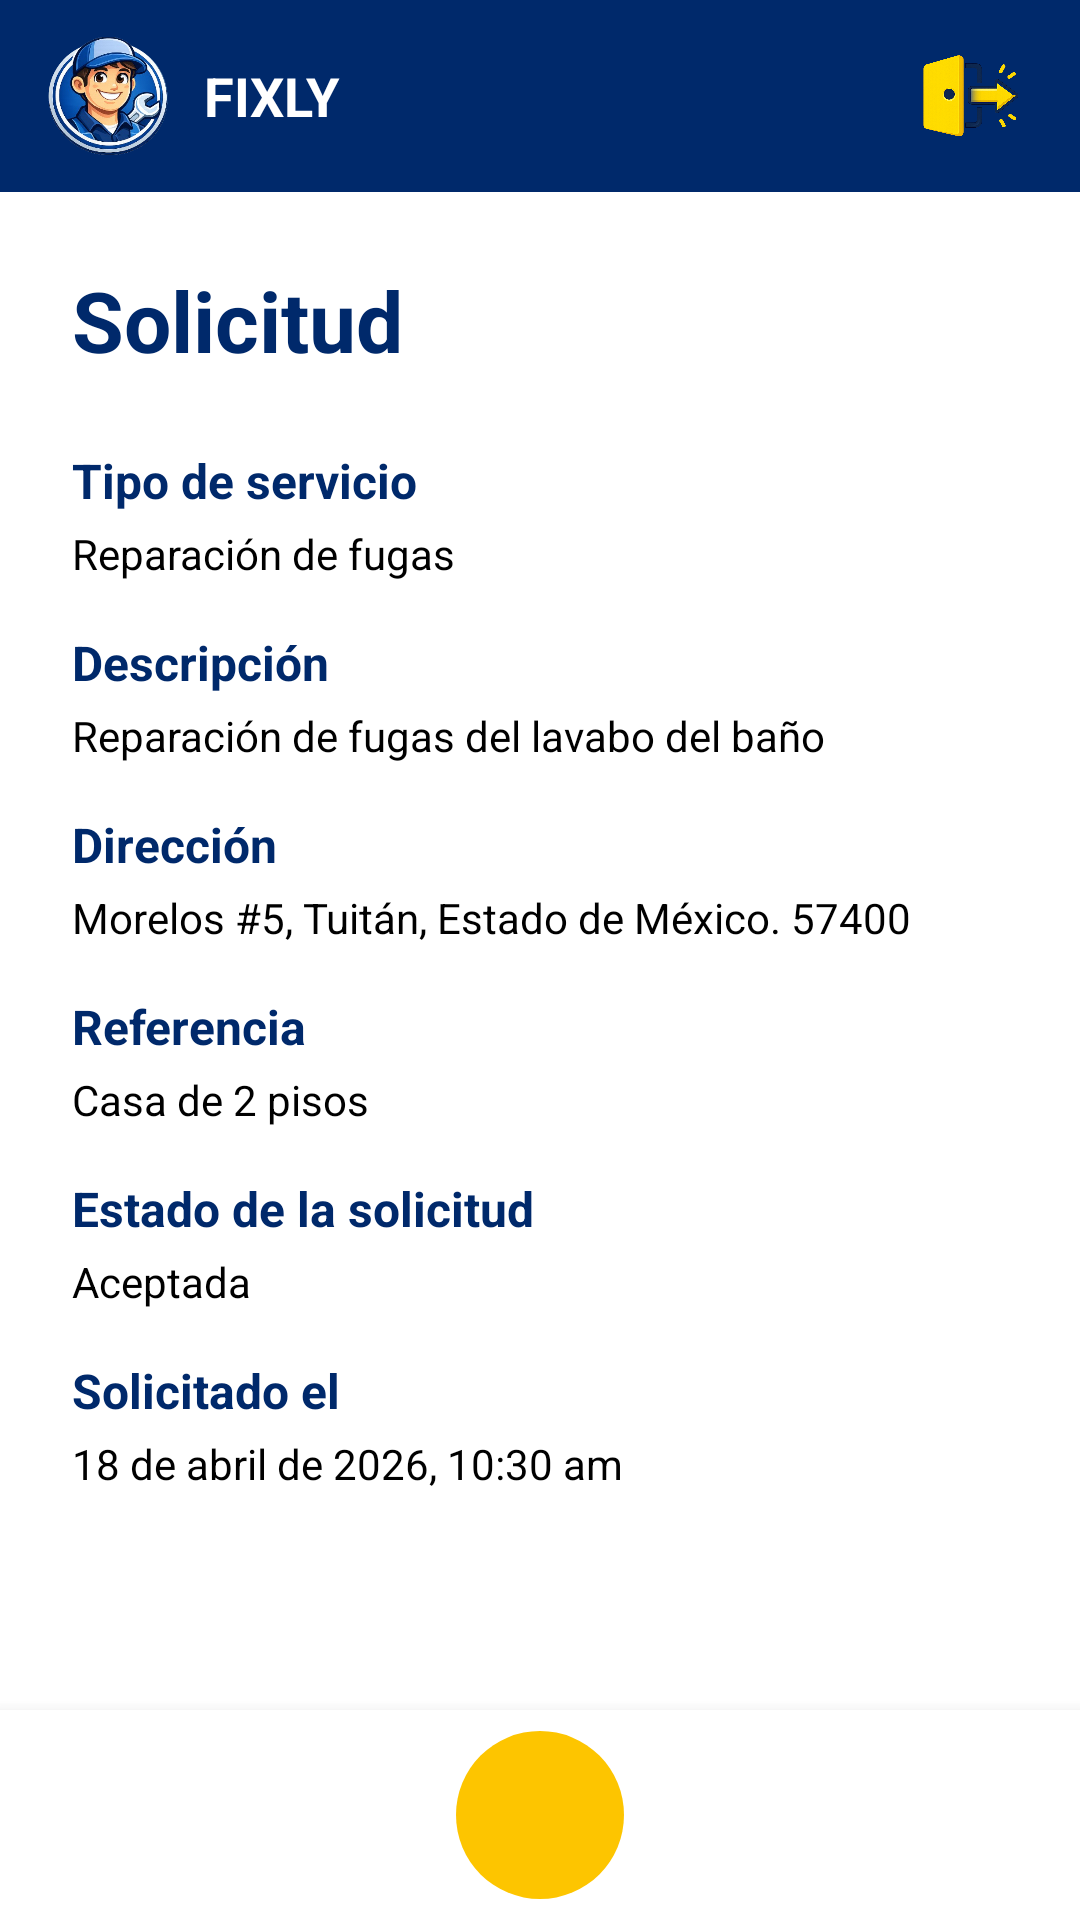

Screen size 1080x1920. Icon name, then its box in pixels as box(x1, y1, x2, y2):
cerrar sesion: box(923, 55, 1018, 136)
